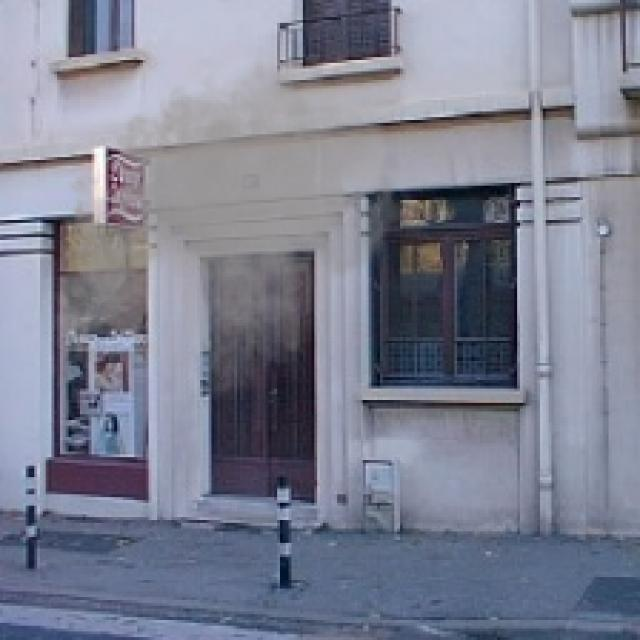smoke: (46, 34, 420, 417)
